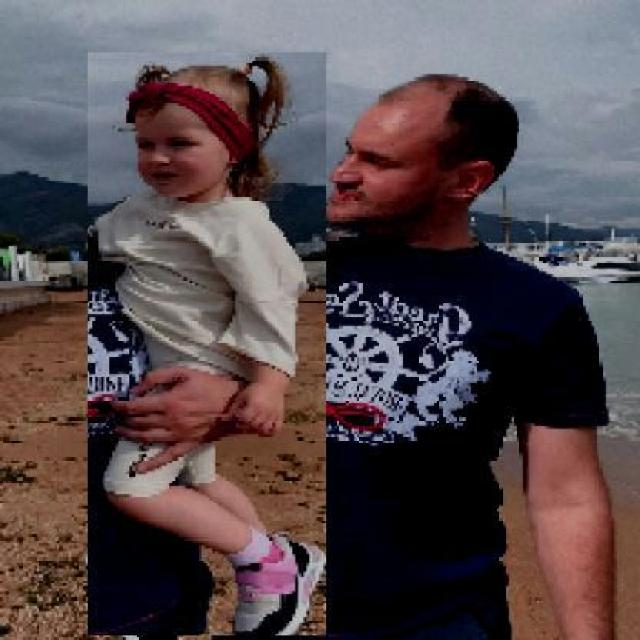child: (86, 52, 326, 637)
